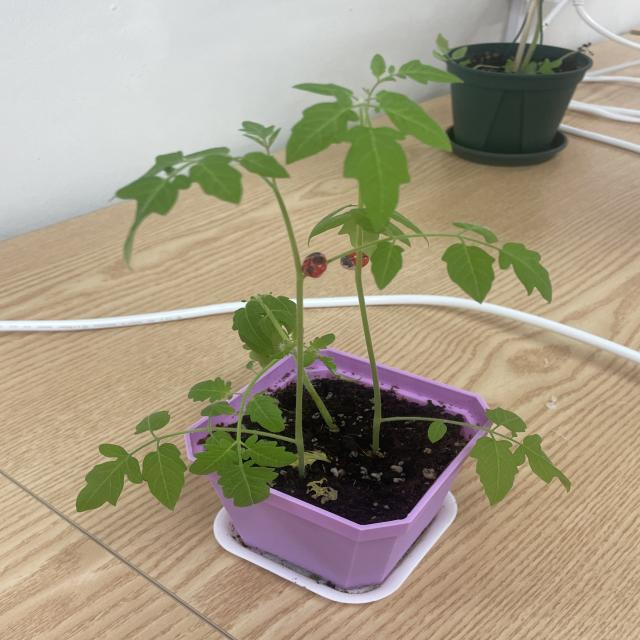bug: (333, 237, 394, 299), (286, 240, 336, 291)
